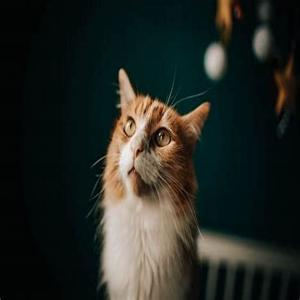cat: (92, 71, 203, 198)
